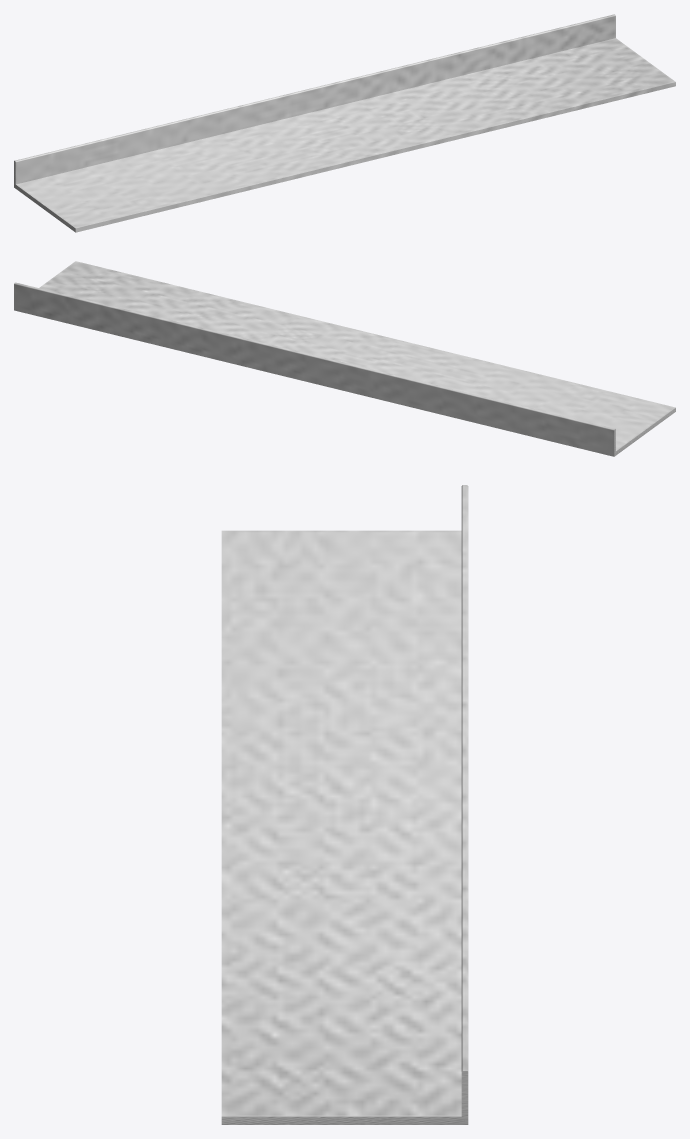
Rendered from testObj.DAE.
The picture shows the model from 3 angles, top to bottom: view 1: azimuth 30°, elevation 25°; view 2: azimuth 150°, elevation 25°; view 3: azimuth 270°, elevation 25°; orthographic projection. The views are drawn at different scales.
Visible parts, largest first — view 1: Line06; view 2: Line06; view 3: Line06.
Part boxes in pixels (<box>): Line06: <box>14,14,675,232</box>; Line06: <box>14,261,675,456</box>; Line06: <box>221,485,468,1124</box>.
Bounding box in the file's own units: 117 × 20.84 × 5.04.
Materials: 1 (1 with a texture image).
